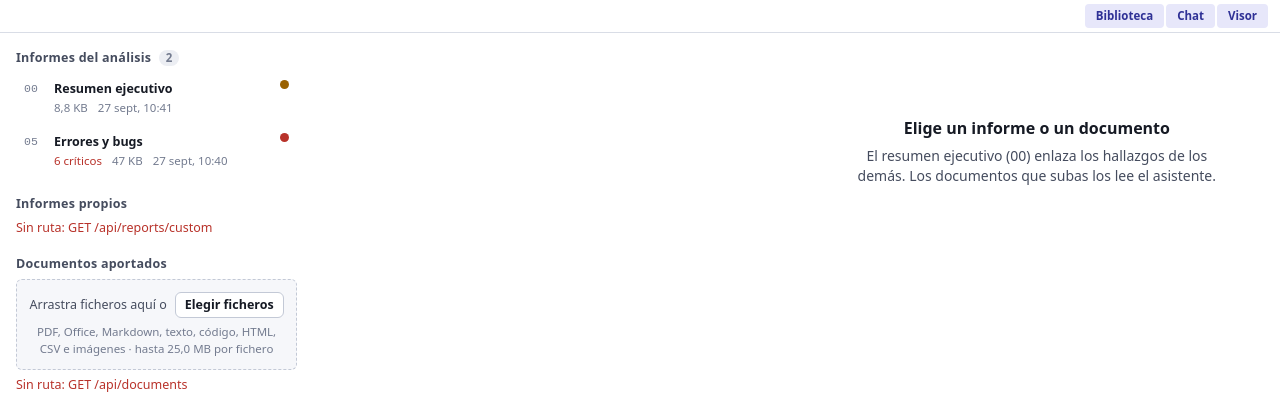
Test: AssistantTab › lista los informes ordenados con semáforo y críticos, y abre el Markdown elegido
Expected: the text "6 críticos" is shown, x1=54 y1=153 x2=102 y2=170
Click the button "05 Errores y bugs 6 críticos 47 KB 27 sept, 10:40" at (157, 151), box x1=16 y1=126 x2=297 y2=177
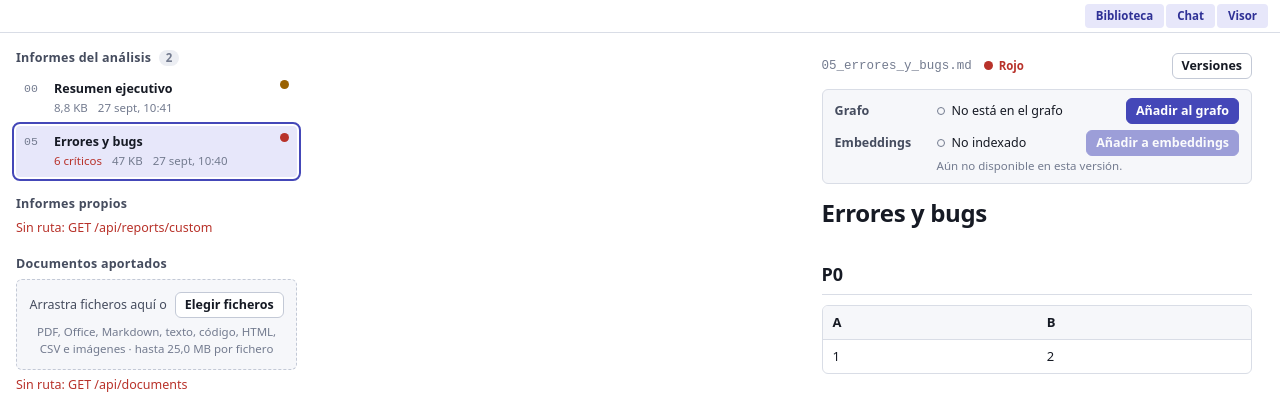
Expected: the heading "Errores y bugs" is shown, x1=822 y1=196 x2=987 y2=229
Expected: the table is shown, x1=823 y1=306 x2=1251 y2=373
